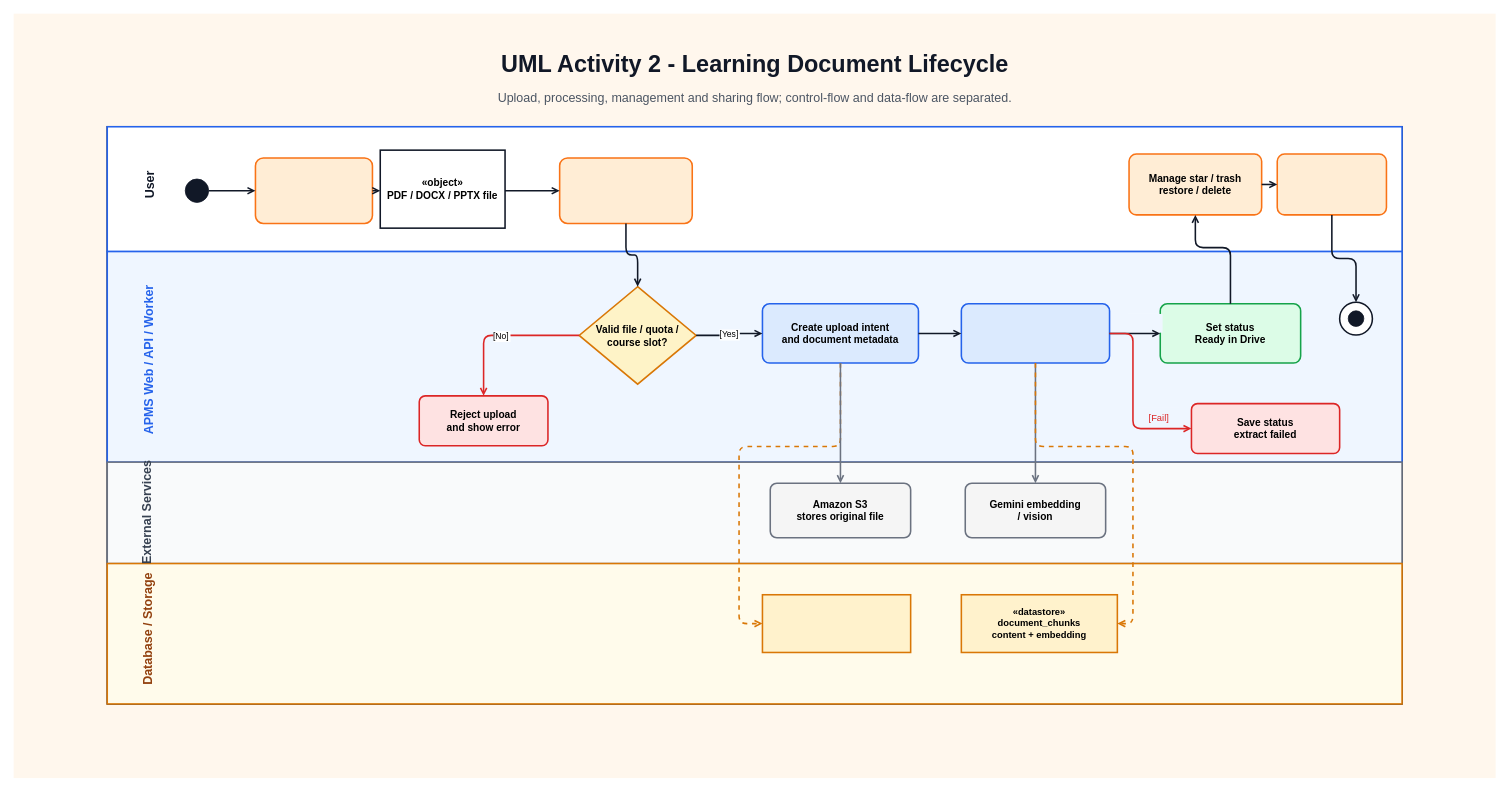
The diagram is 1509 pixels wide and 791 high, and some of its shapes have lost their labels. Each missing label, with the centre of its shape:
"[OK]" goes at point (1144, 323).
"Enter course slot and metadata" goes at point (625, 190).
"Open My Drive" goes at point (313, 190).
"Share read-only or make public" goes at point (1331, 184).
"Worker extract → chunk → embed" goes at point (1035, 333).
"«datastore» documents metadata" goes at point (836, 623).
